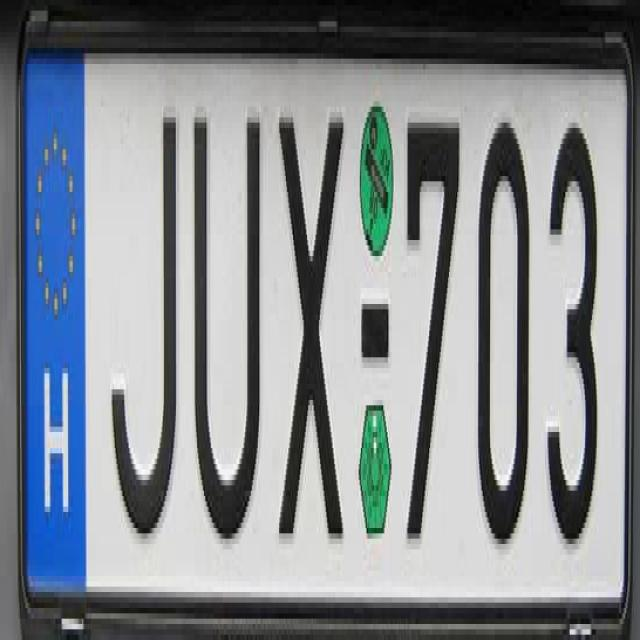EU: (16, 5, 630, 614)
Hongrie: (18, 47, 87, 607)
